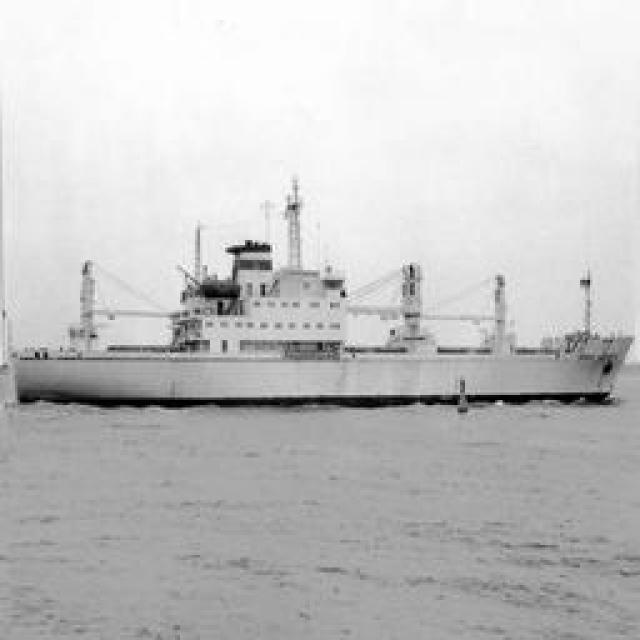Ship: (9, 231, 634, 416)
